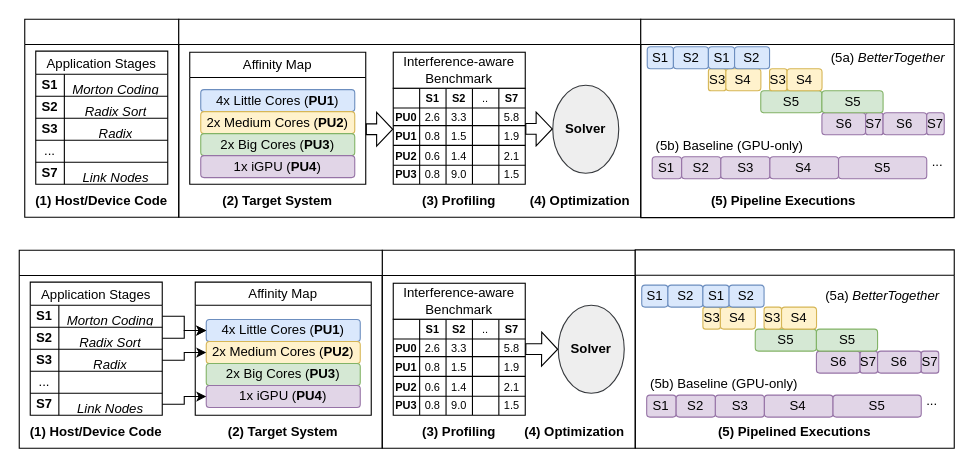
The diagram is 974 pixels wide and 468 high, and some of its shapes have lost their labels. Here are the shapes that lost their labels. From the top down, the box of each, then its label:
(24, 18, 179, 217): BT Inputs
(178, 18, 641, 217): BetterTogether Performance Profiler (BT-Profiler)
(640, 18, 954, 218): BT-Runtime
(18, 249, 382, 448): BetterTogether Inputs
(381, 249, 635, 448): Performance Profiler (BT-Profiler)
(634, 249, 954, 448): BetterTogether Implementation (BTI)
